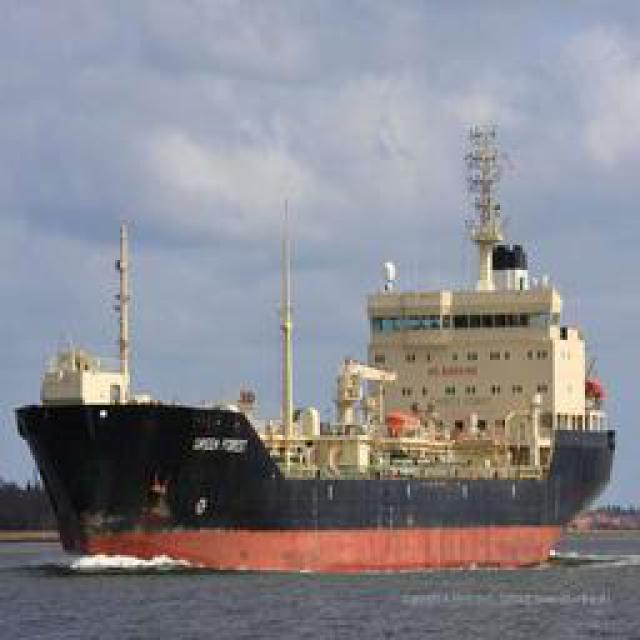Ship: (25, 168, 618, 563)
